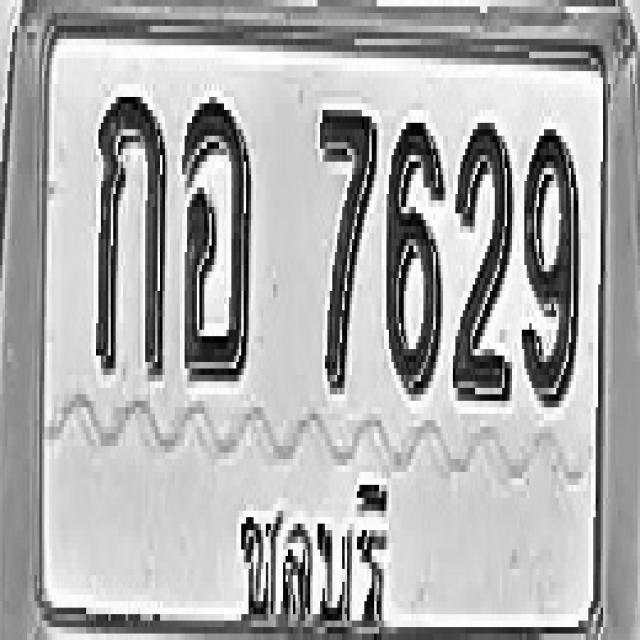10GorGai: (95, 90, 166, 375)
2: (452, 116, 513, 401)
52OrAng: (182, 97, 251, 381)
6: (386, 116, 444, 394)
7: (318, 103, 377, 394)
9: (522, 123, 578, 407)
Chonburi: (229, 459, 399, 640)
